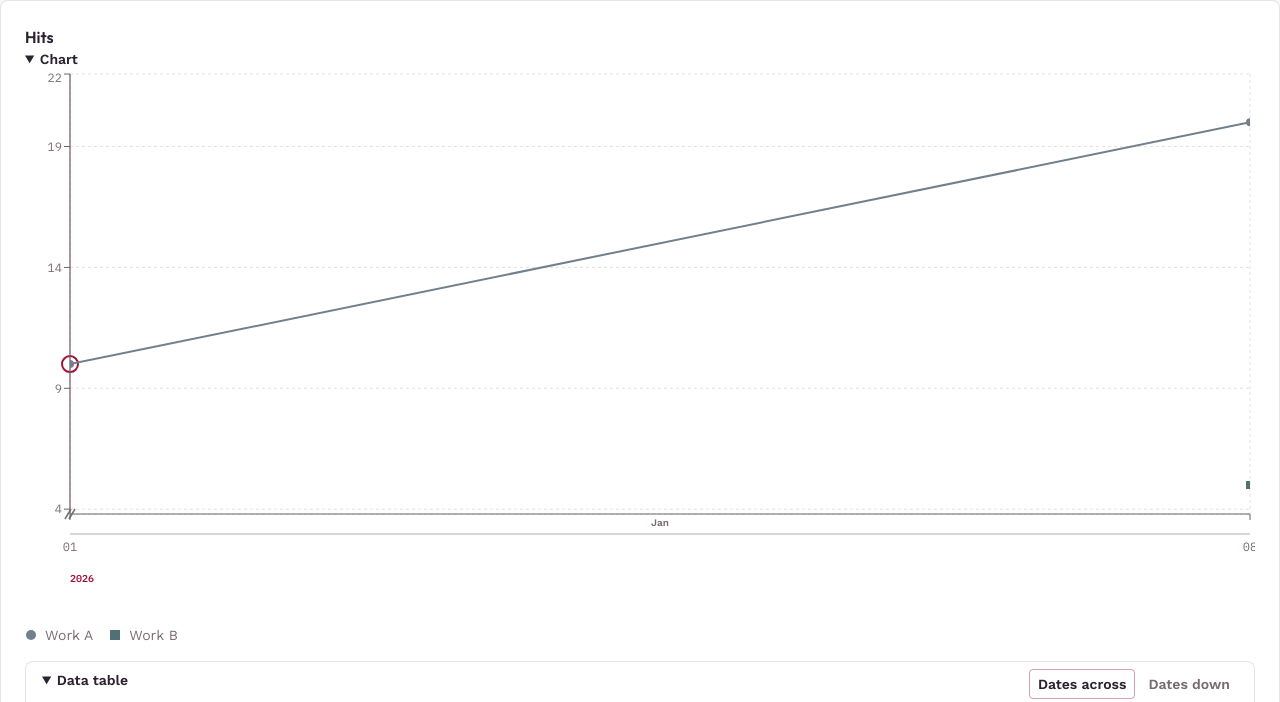
Test: MultiSeriesTrendChart: pin via clicking a chart point (§3 item 3) › pins the clicked date's column when the chart itself is clicked
What coordinates should you click on to do the following:
click the element with class "recharts-wrapper"
I would click on:
 (640, 339)
Its box is [25,69,1255,609].
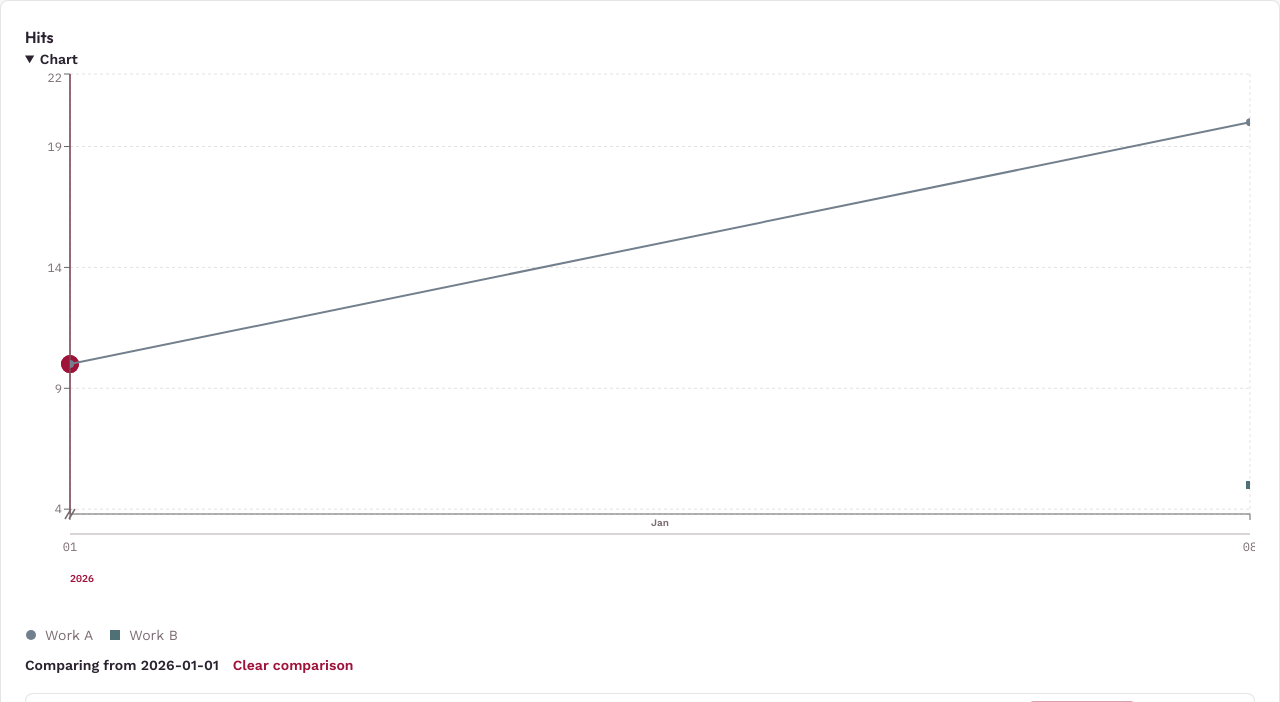
Expected: the text "Comparing from 2026-01-01" is shown, [25,655,219,675]
